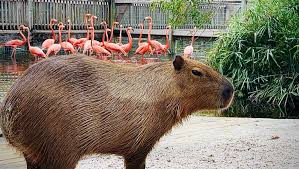capivara: (1, 57, 234, 169)
